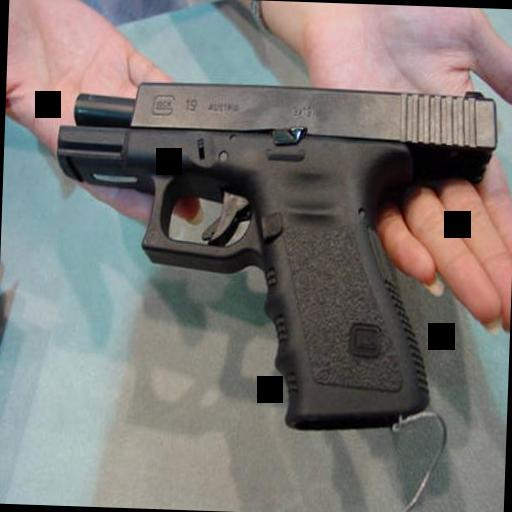Handgun: (44, 69, 494, 439)
